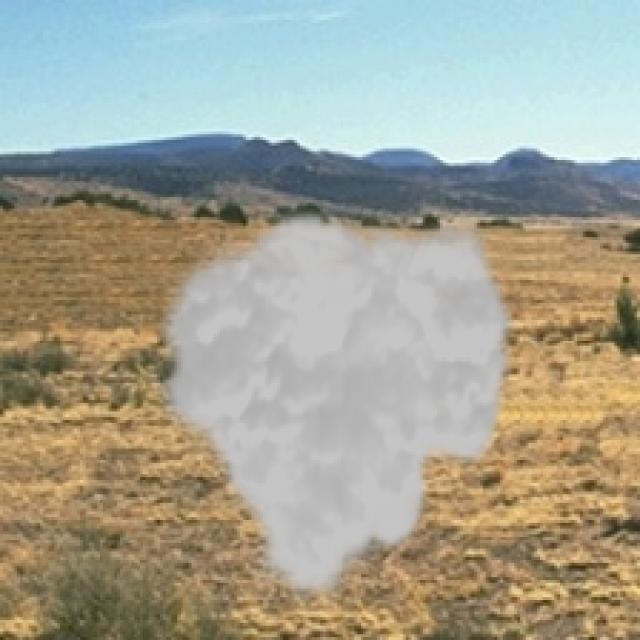Smoke: (148, 206, 520, 608)
